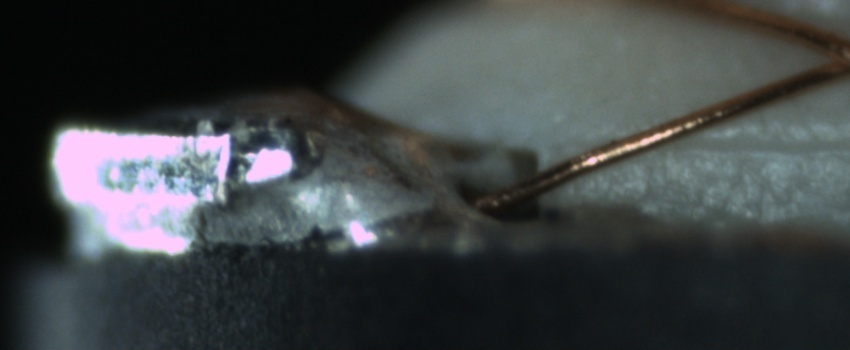CL: (801, 26, 850, 89)
DL: (639, 112, 849, 176)
